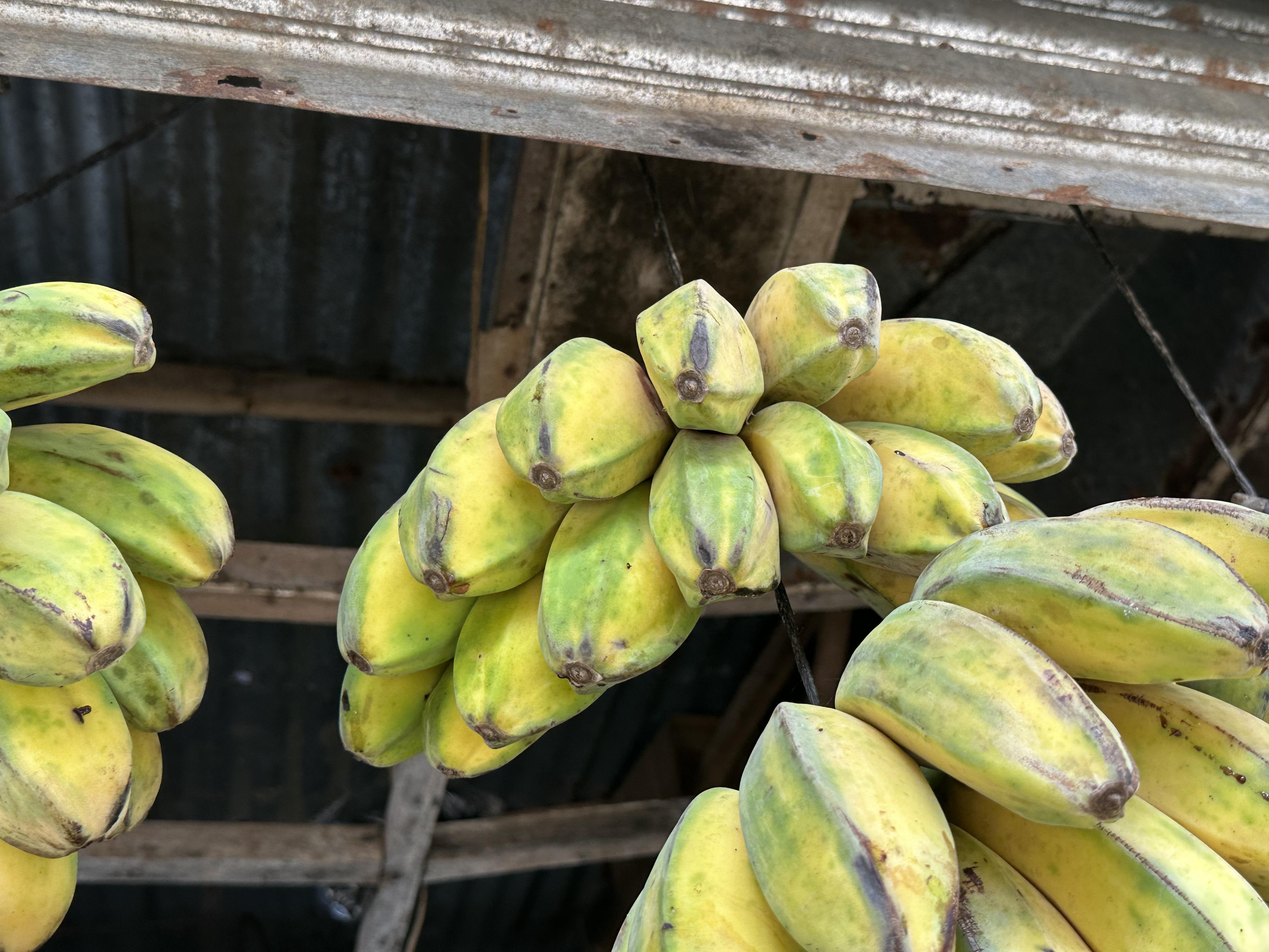underripe: (335, 263, 1078, 779), (611, 496, 1269, 952), (0, 279, 238, 952)
